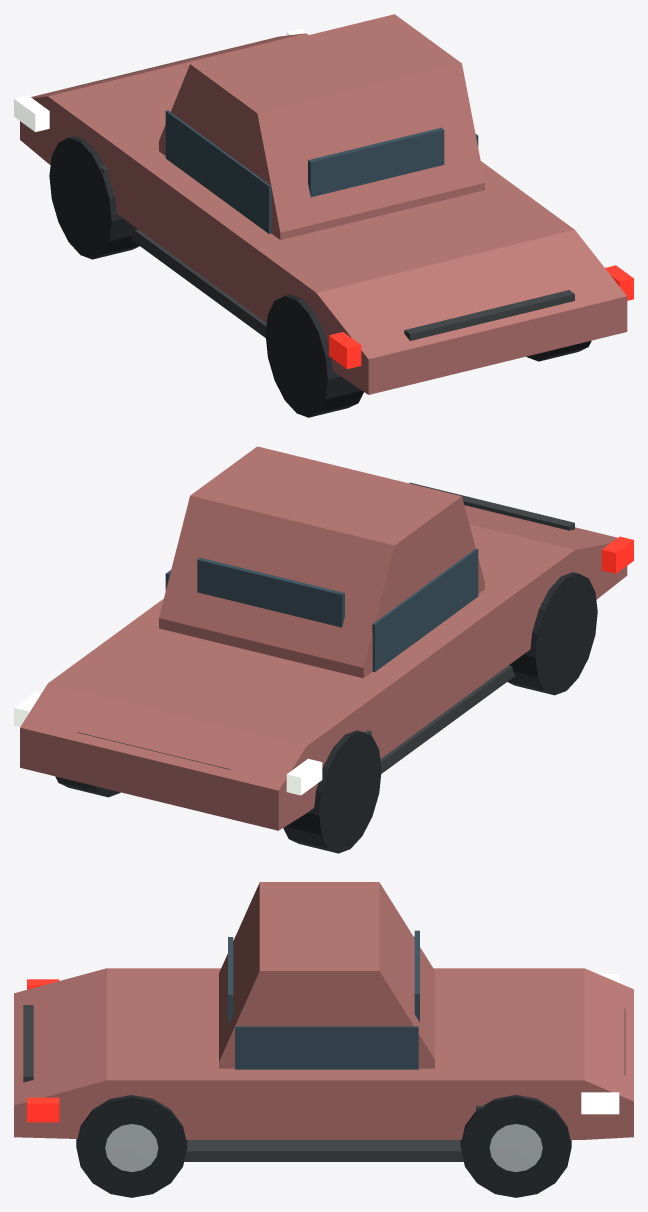
File: porsche-macan.glb
3 renders of one model, top to bottom at view 1: azimuth 30°, elevation 25°; view 2: azimuth 150°, elevation 25°; view 3: azimuth 270°, elevation 25°, orthographic. The views are drawn at different scales.
Visible parts, largest first — view 1: porsche-macan illustrative model; view 2: porsche-macan illustrative model; view 3: porsche-macan illustrative model.
Part boxes in pixels (<box>): porsche-macan illustrative model: <box>14,14,633,417</box>; porsche-macan illustrative model: <box>14,446,633,853</box>; porsche-macan illustrative model: <box>14,882,633,1197</box>.
Size of the model in its own units: 2.02 by 1.61 by 4.25.
